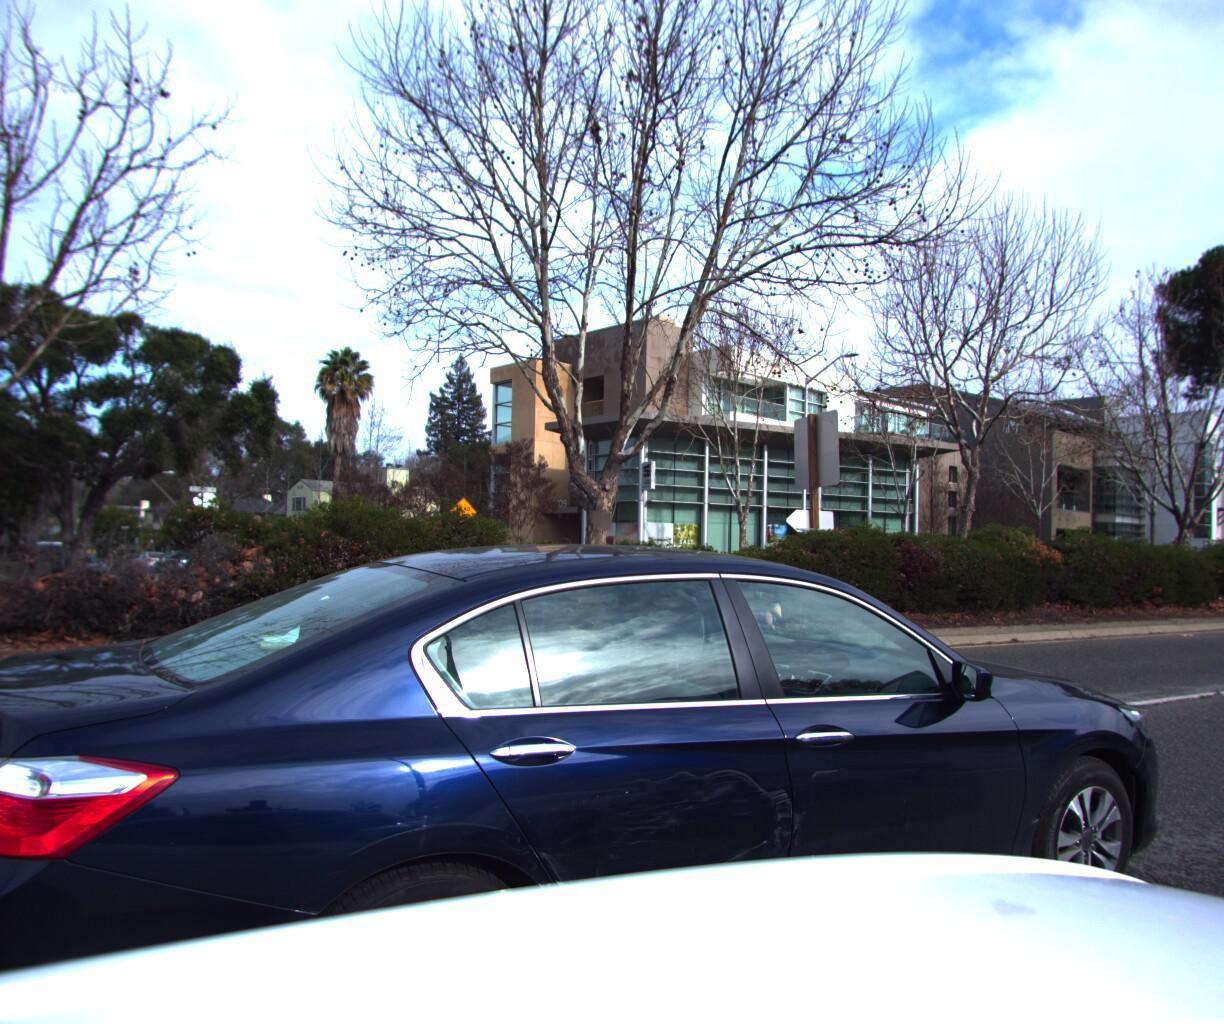car: (0, 532, 1222, 1024)
